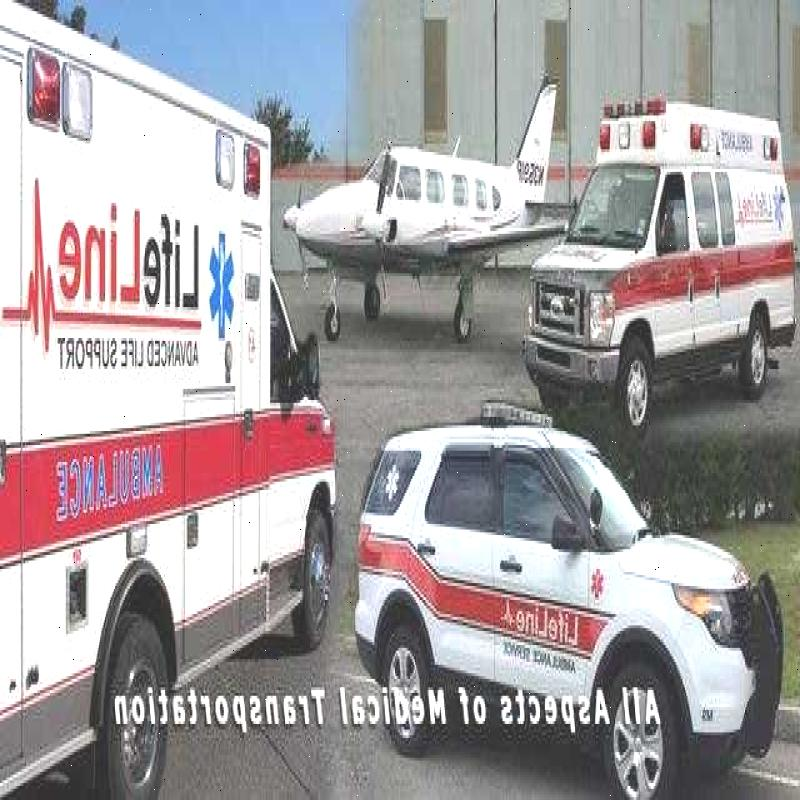AmbulanceSiren: (591, 90, 668, 123)
